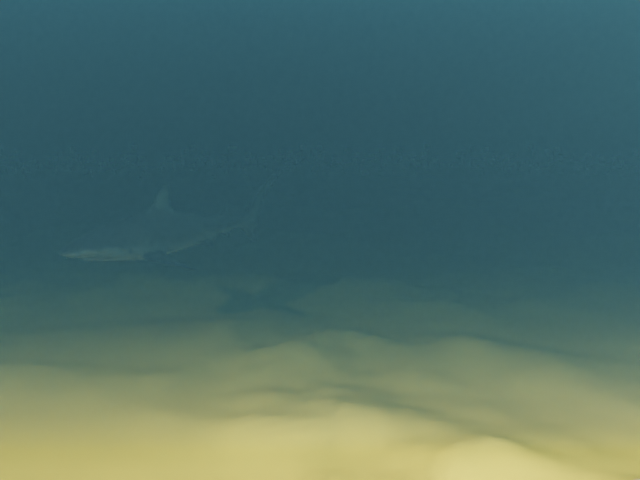Carribean Shark.001: (58, 175, 275, 270)
